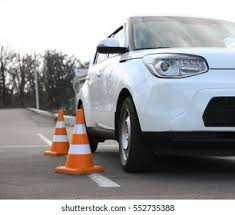car: (78, 17, 235, 175)
cone: (59, 107, 104, 174), (43, 111, 72, 156)
